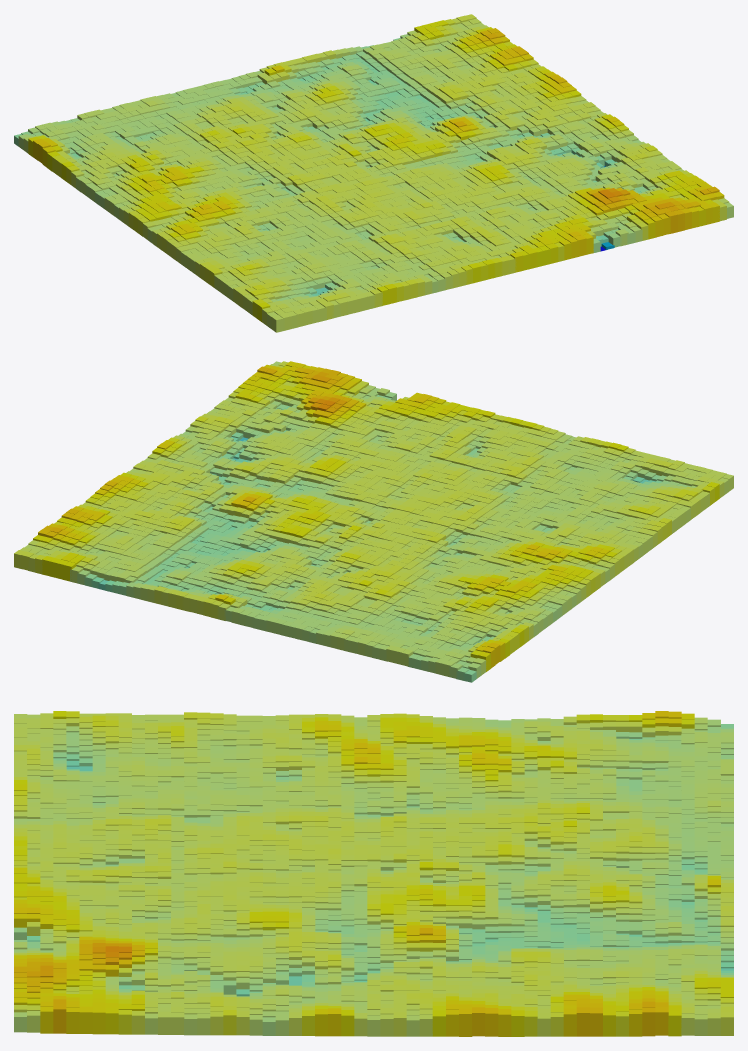
The model's file is population.glb.
3 views of the same model, one above another, from view 1: azimuth 30°, elevation 25°; view 2: azimuth 150°, elevation 25°; view 3: azimuth 270°, elevation 25° (orthographic). The views are drawn at different scales.
Parts seen in each view (by area): view 1: population; view 2: population; view 3: population.
Part boxes in pixels (x1,y1,x2,y2): population: [14, 14, 733, 332]; population: [14, 361, 733, 682]; population: [14, 711, 733, 1036].
Bounding box in the file's own units: 5485 × 279 × 5443.
